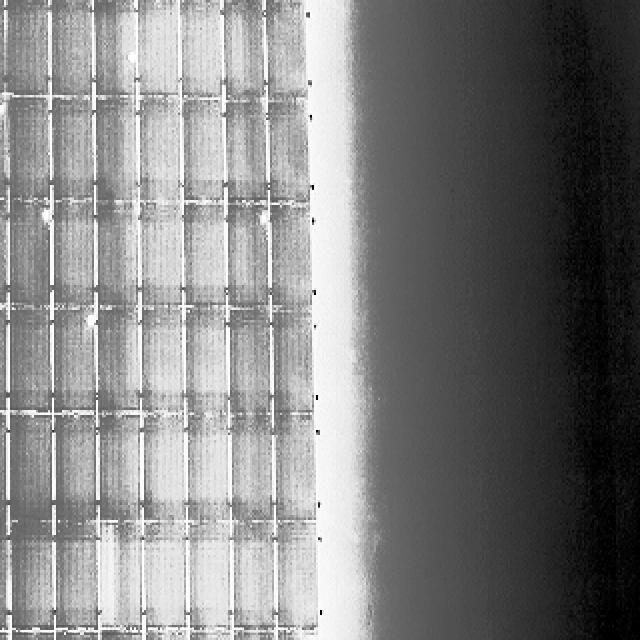Hotspots: (78, 314, 95, 336), (121, 48, 137, 64), (0, 100, 8, 115)
PV-modules: (7, 523, 54, 632), (6, 416, 52, 526), (53, 314, 100, 421), (140, 417, 186, 525), (138, 204, 184, 312), (186, 524, 231, 634), (51, 417, 96, 527), (91, 205, 136, 315), (275, 521, 320, 631), (234, 521, 279, 630), (185, 417, 230, 526), (96, 522, 141, 631), (51, 205, 96, 314), (6, 307, 52, 413), (220, 100, 266, 206), (225, 314, 270, 422), (269, 208, 314, 316), (140, 523, 184, 633), (137, 309, 182, 416), (95, 96, 140, 203), (272, 415, 316, 524), (96, 308, 142, 412), (185, 307, 229, 415), (233, 418, 277, 526), (268, 100, 312, 208), (99, 412, 143, 520), (54, 528, 100, 631), (7, 202, 50, 311), (4, 97, 49, 201), (224, 207, 268, 313), (182, 100, 226, 206), (51, 97, 95, 202), (136, 97, 179, 204), (184, 206, 228, 310), (265, 1, 309, 105), (224, 1, 268, 105), (180, 2, 226, 101), (270, 311, 314, 414), (3, 1, 48, 98), (91, 1, 135, 98), (49, 2, 93, 98), (134, 0, 178, 94), (0, 413, 10, 525), (0, 520, 10, 630), (0, 198, 8, 308), (0, 95, 8, 200), (0, 308, 8, 412), (186, 627, 232, 640), (142, 627, 186, 640), (276, 627, 320, 640), (10, 630, 58, 640), (228, 630, 276, 640), (0, 0, 4, 95), (54, 632, 100, 640), (94, 632, 140, 640), (0, 632, 6, 640)
